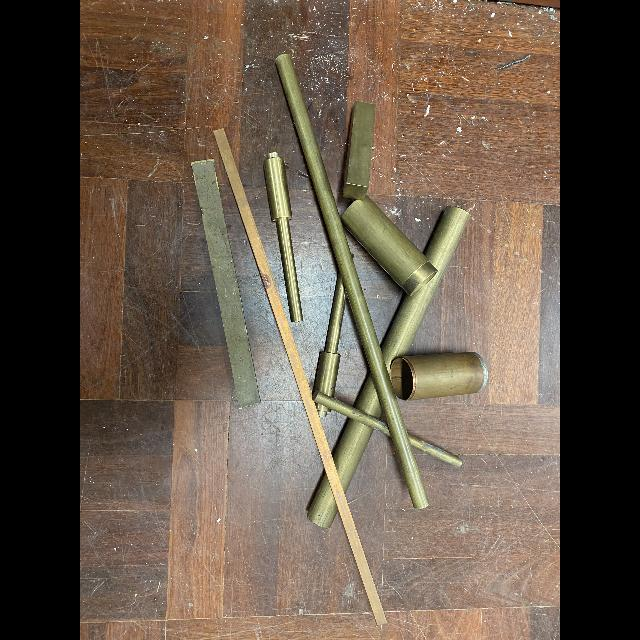Brass: (276, 55, 428, 508), (191, 160, 260, 407), (381, 207, 470, 371), (342, 196, 438, 294), (264, 152, 303, 322), (313, 277, 346, 396), (312, 391, 391, 436), (343, 101, 375, 200), (334, 418, 373, 492), (409, 435, 462, 467), (308, 473, 338, 528), (356, 377, 382, 418), (316, 405, 330, 418)
Copper: (213, 128, 388, 626), (390, 352, 487, 401)
